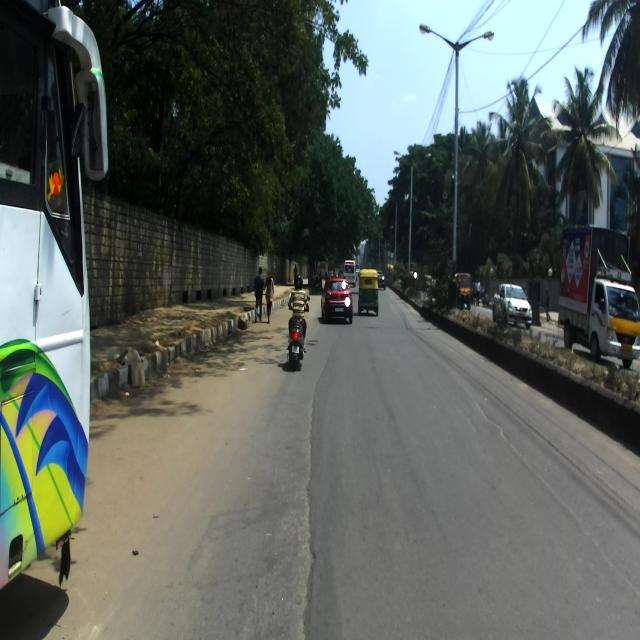autorickshaw: (451, 271, 472, 313)
bus: (0, 0, 109, 588)
car: (492, 282, 532, 328), (320, 277, 353, 325), (357, 269, 379, 315)
scooter: (286, 295, 310, 371)
truck: (558, 226, 640, 368)
